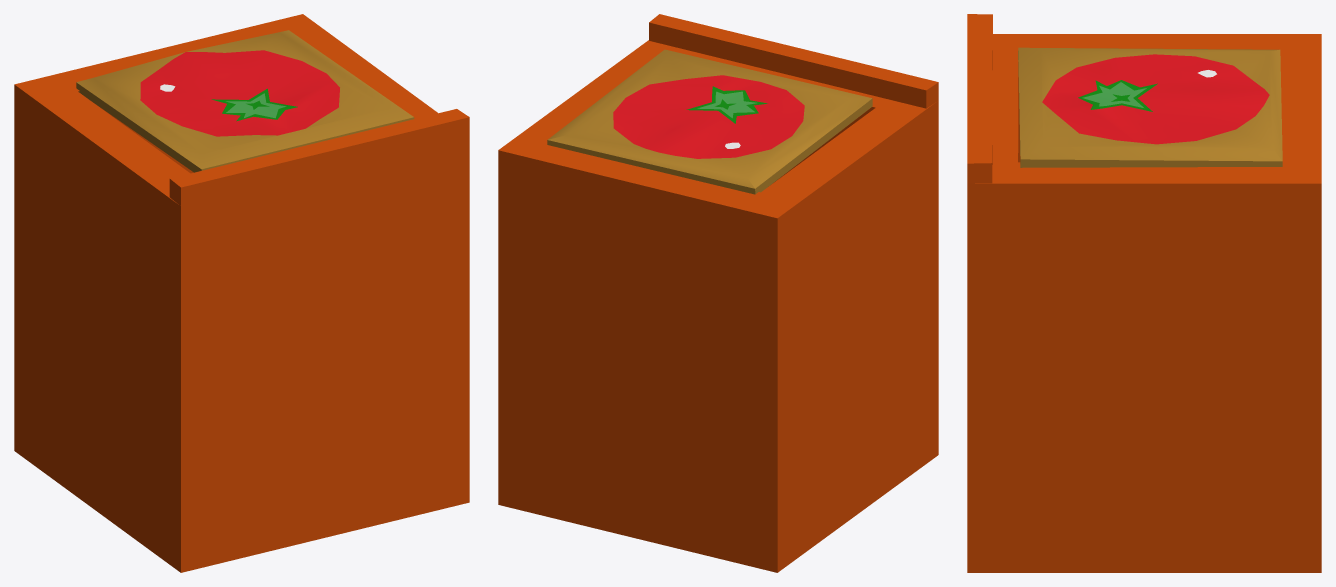
The model's file is BancadaDeTomate.fbx.
3 views of the same model, side by side, from view 1: azimuth 30°, elevation 25°; view 2: azimuth 150°, elevation 25°; view 3: azimuth 270°, elevation 25° (orthographic). The views are drawn at different scales.
Visible parts, largest first — view 1: Bancada de Tomate.001, Bancada de Tomate; view 2: Bancada de Tomate.001, Bancada de Tomate; view 3: Bancada de Tomate.001, Bancada de Tomate.
Part boxes in pixels (bbox=[...]): Bancada de Tomate.001: bbox=[14, 14, 469, 572]; Bancada de Tomate: bbox=[76, 30, 414, 172]; Bancada de Tomate.001: bbox=[498, 14, 938, 572]; Bancada de Tomate: bbox=[547, 49, 872, 194]; Bancada de Tomate.001: bbox=[967, 14, 1321, 572]; Bancada de Tomate: bbox=[1018, 47, 1282, 167].
Bounding box in the file's own units: 49.1 × 62.64 × 49.1.
